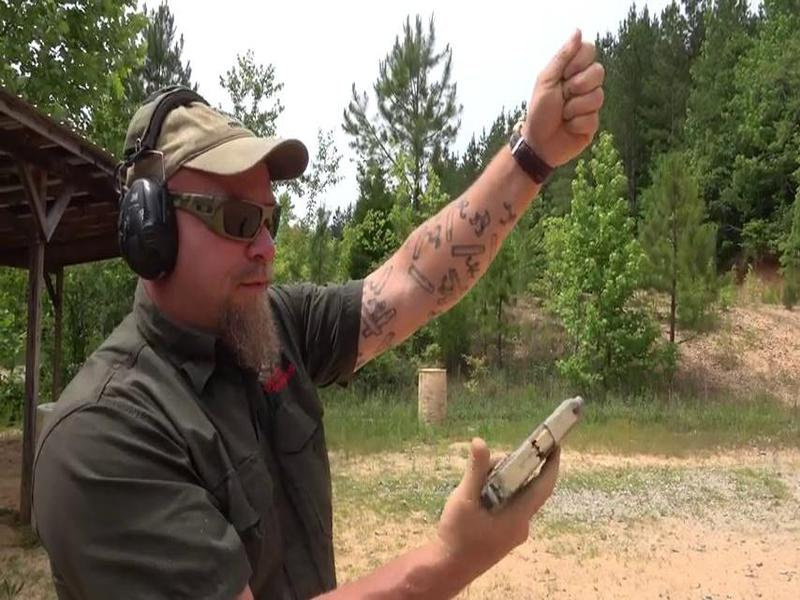Pistola: (425, 381, 618, 536)
